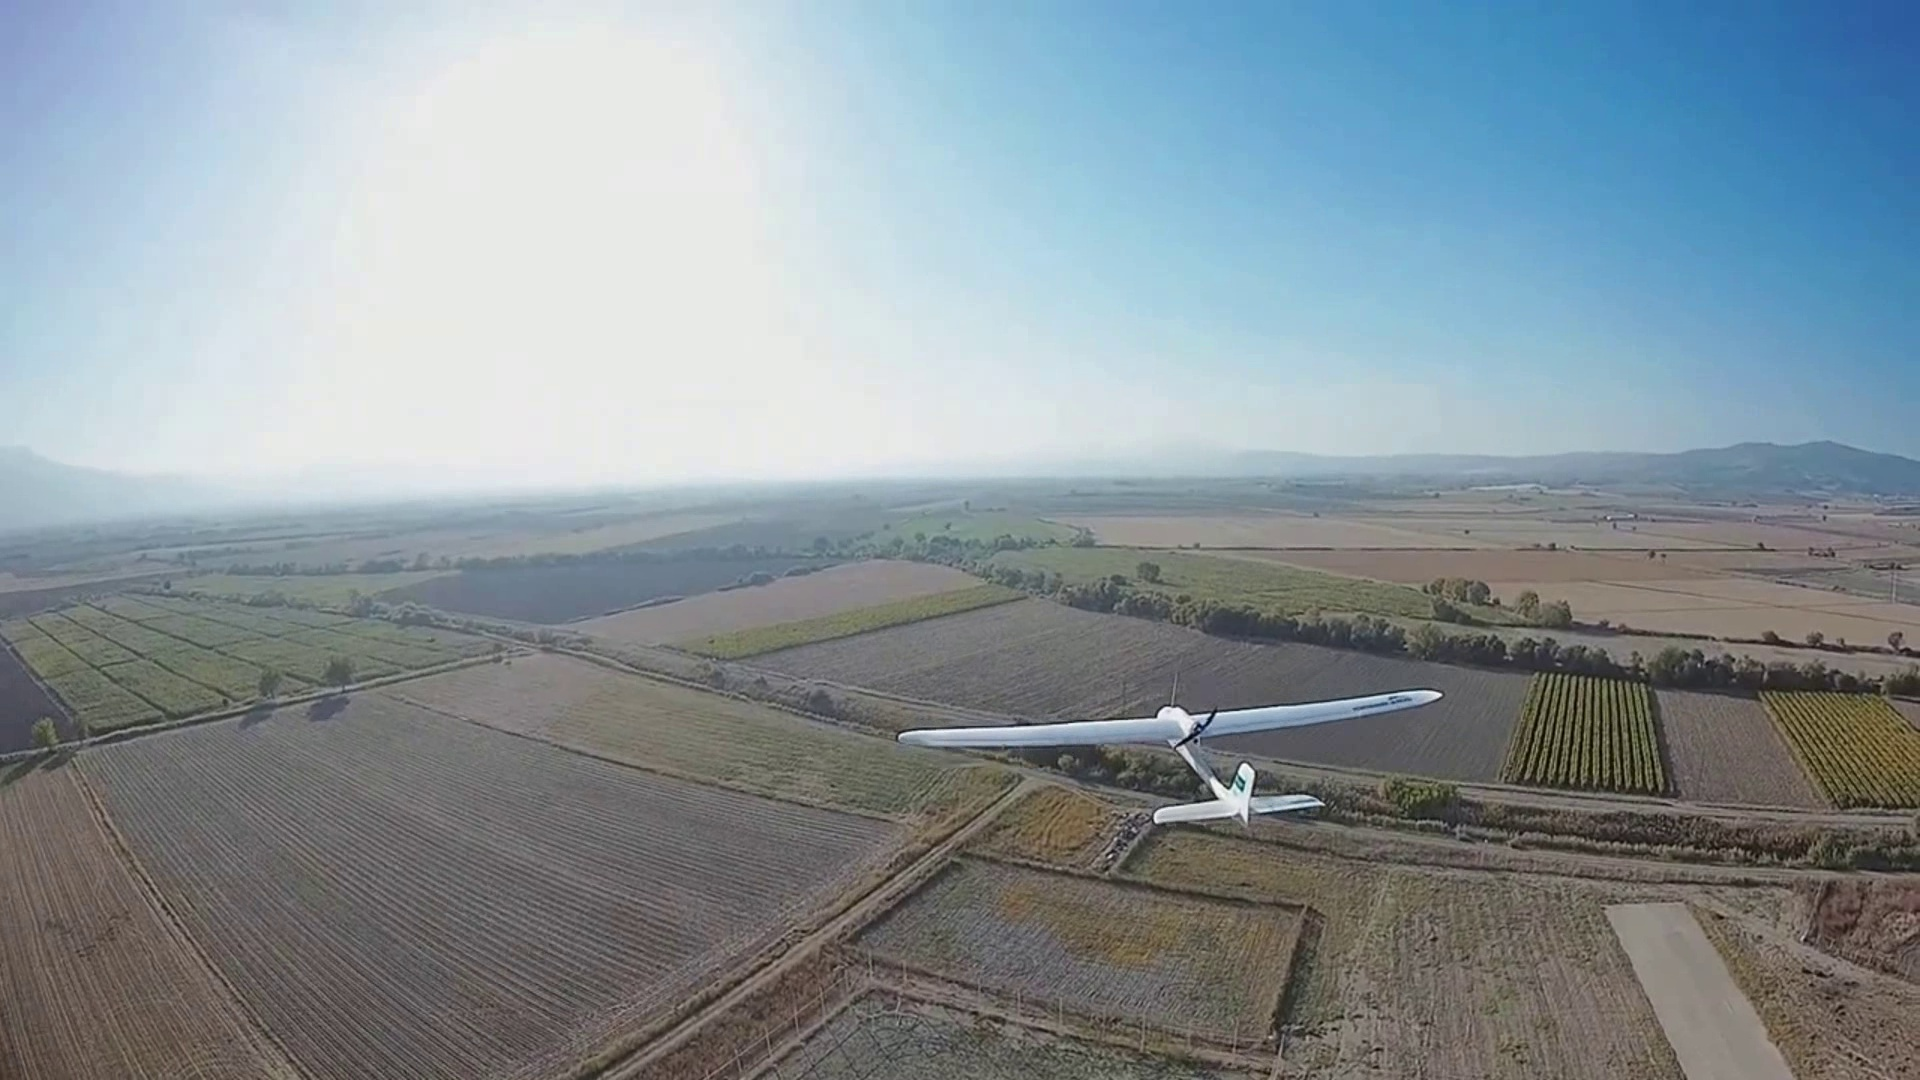airplane: (892, 683, 1444, 825)
